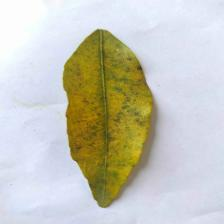black spot: (57, 67, 158, 142)
